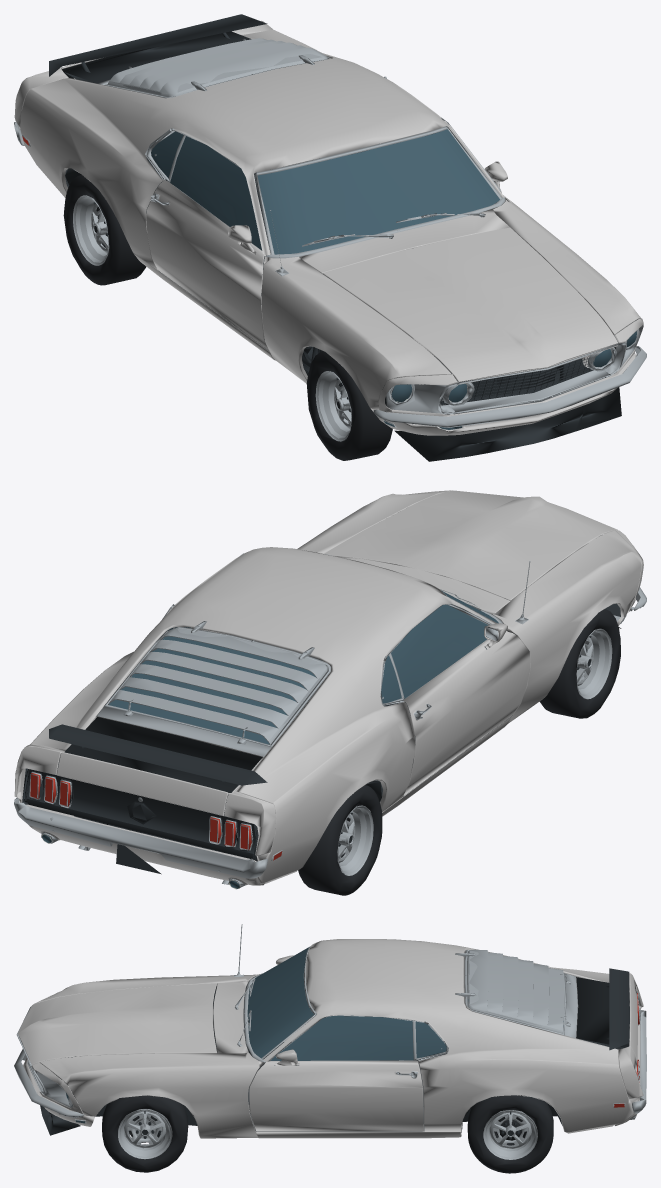
File: muscle-coupe.glb
The picture shows the model from 3 angles, top to bottom: view 1: azimuth 30°, elevation 25°; view 2: azimuth 150°, elevation 25°; view 3: azimuth 270°, elevation 25°; orthographic projection. The views are drawn at different scales.
Parts seen in each view (by area): view 1: paint, glass, alloy, trim, front right tire, rear right tire, rear right alloy, front right alloy; view 2: paint, alloy, trim, glass, rear right tire, front right tire, front right alloy, rear right alloy, tail; view 3: paint, alloy, glass, trim, rear left tire, front left tire, front left alloy, rear left alloy.
Boxes of the visible parts, left/top/right/bottom form: paint: left=14, top=21, right=643, bottom=435; glass: left=151, top=61, right=636, bottom=429; alloy: left=14, top=38, right=646, bottom=427; trim: left=49, top=14, right=637, bottom=461; front right tire: left=306, top=351, right=392, bottom=460; rear right tire: left=63, top=175, right=146, bottom=285; rear right alloy: left=73, top=195, right=109, bottom=265; front right alloy: left=315, top=371, right=351, bottom=441; paint: left=14, top=490, right=643, bottom=885; alloy: left=14, top=553, right=646, bottom=888; trim: left=22, top=603, right=621, bottom=874; glass: left=42, top=590, right=623, bottom=888; rear right tire: left=298, top=785, right=382, bottom=895; front right tire: left=539, top=609, right=620, bottom=718; front right alloy: left=576, top=628, right=612, bottom=699; rear right alloy: left=337, top=805, right=373, bottom=875; tail: left=30, top=773, right=282, bottom=860; paint: left=18, top=939, right=643, bottom=1138; alloy: left=14, top=924, right=646, bottom=1123; glass: left=66, top=947, right=563, bottom=1123; trim: left=40, top=968, right=629, bottom=1135; rear left tire: left=467, top=1095, right=553, bottom=1173; front left tire: left=102, top=1095, right=188, bottom=1172; front left alloy: left=118, top=1109, right=172, bottom=1159; rear left alloy: left=483, top=1110, right=537, bottom=1159.
Bounding box in the file's own units: 1.93 × 1.38 × 5.
